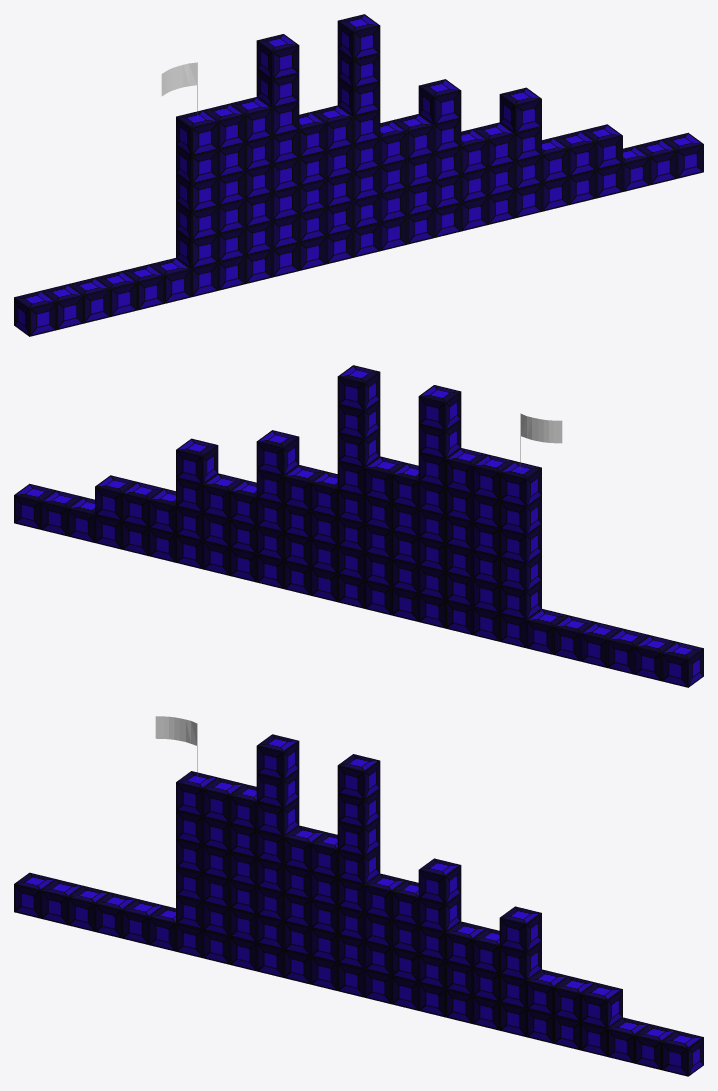
Rendered from DemoViewStage1.obj.
The picture shows the model from 3 angles, top to bottom: view 1: azimuth 30°, elevation 25°; view 2: azimuth 150°, elevation 25°; view 3: azimuth 330°, elevation 25°; orthographic projection.
Visible parts, largest first — view 1: 平面.001; view 2: 平面.001; view 3: 平面.001.
Part boxes in pixels (x1=…): 平面.001: x1=14, y1=14, x2=703, y2=336; 平面.001: x1=14, y1=365, x2=703, y2=687; 平面.001: x1=14, y1=716, x2=703, y2=1076.
Size of the model in its own units: 50 by 16 by 2.
Materials: 2 (2 with a texture image).
